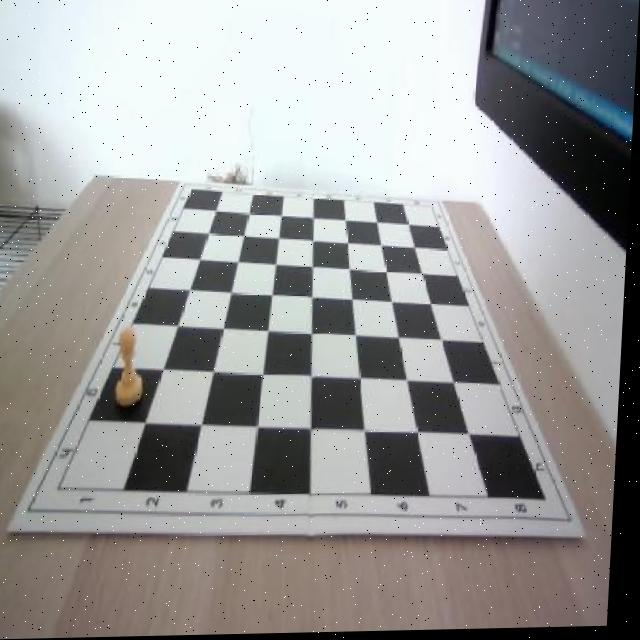white-knight: (117, 328, 150, 409)
